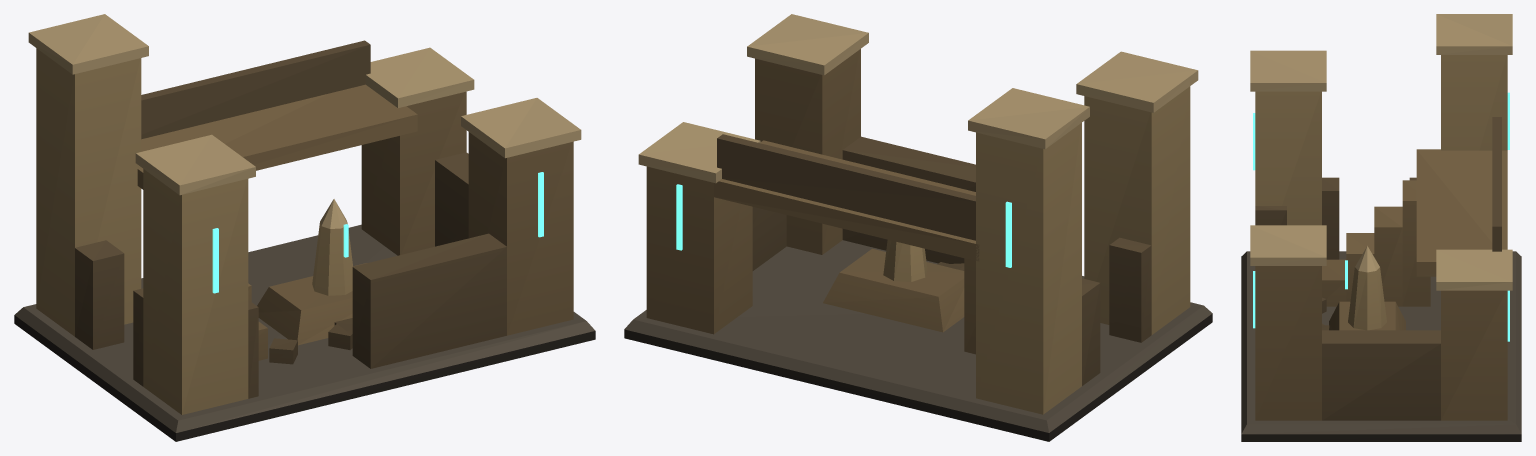
The model's file is temple-colonnade.glb.
3 views of the same model, side by side, from view 1: azimuth 30°, elevation 25°; view 2: azimuth 150°, elevation 25°; view 3: azimuth 270°, elevation 25° (orthographic). The views are drawn at different scales.
Size of the model in its own units: 6 by 4 by 4.
